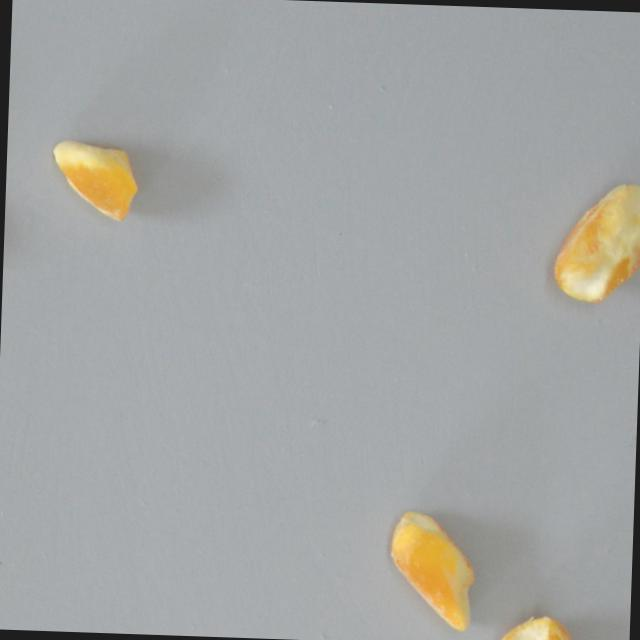pelicula: (33, 128, 151, 235), (384, 506, 481, 634), (550, 178, 640, 308), (495, 610, 600, 640)
